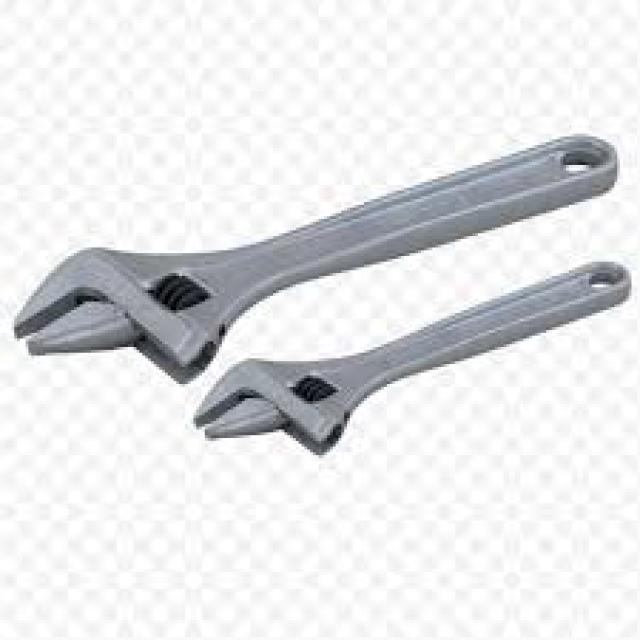wrench: (0, 140, 546, 375), (175, 305, 640, 499)
